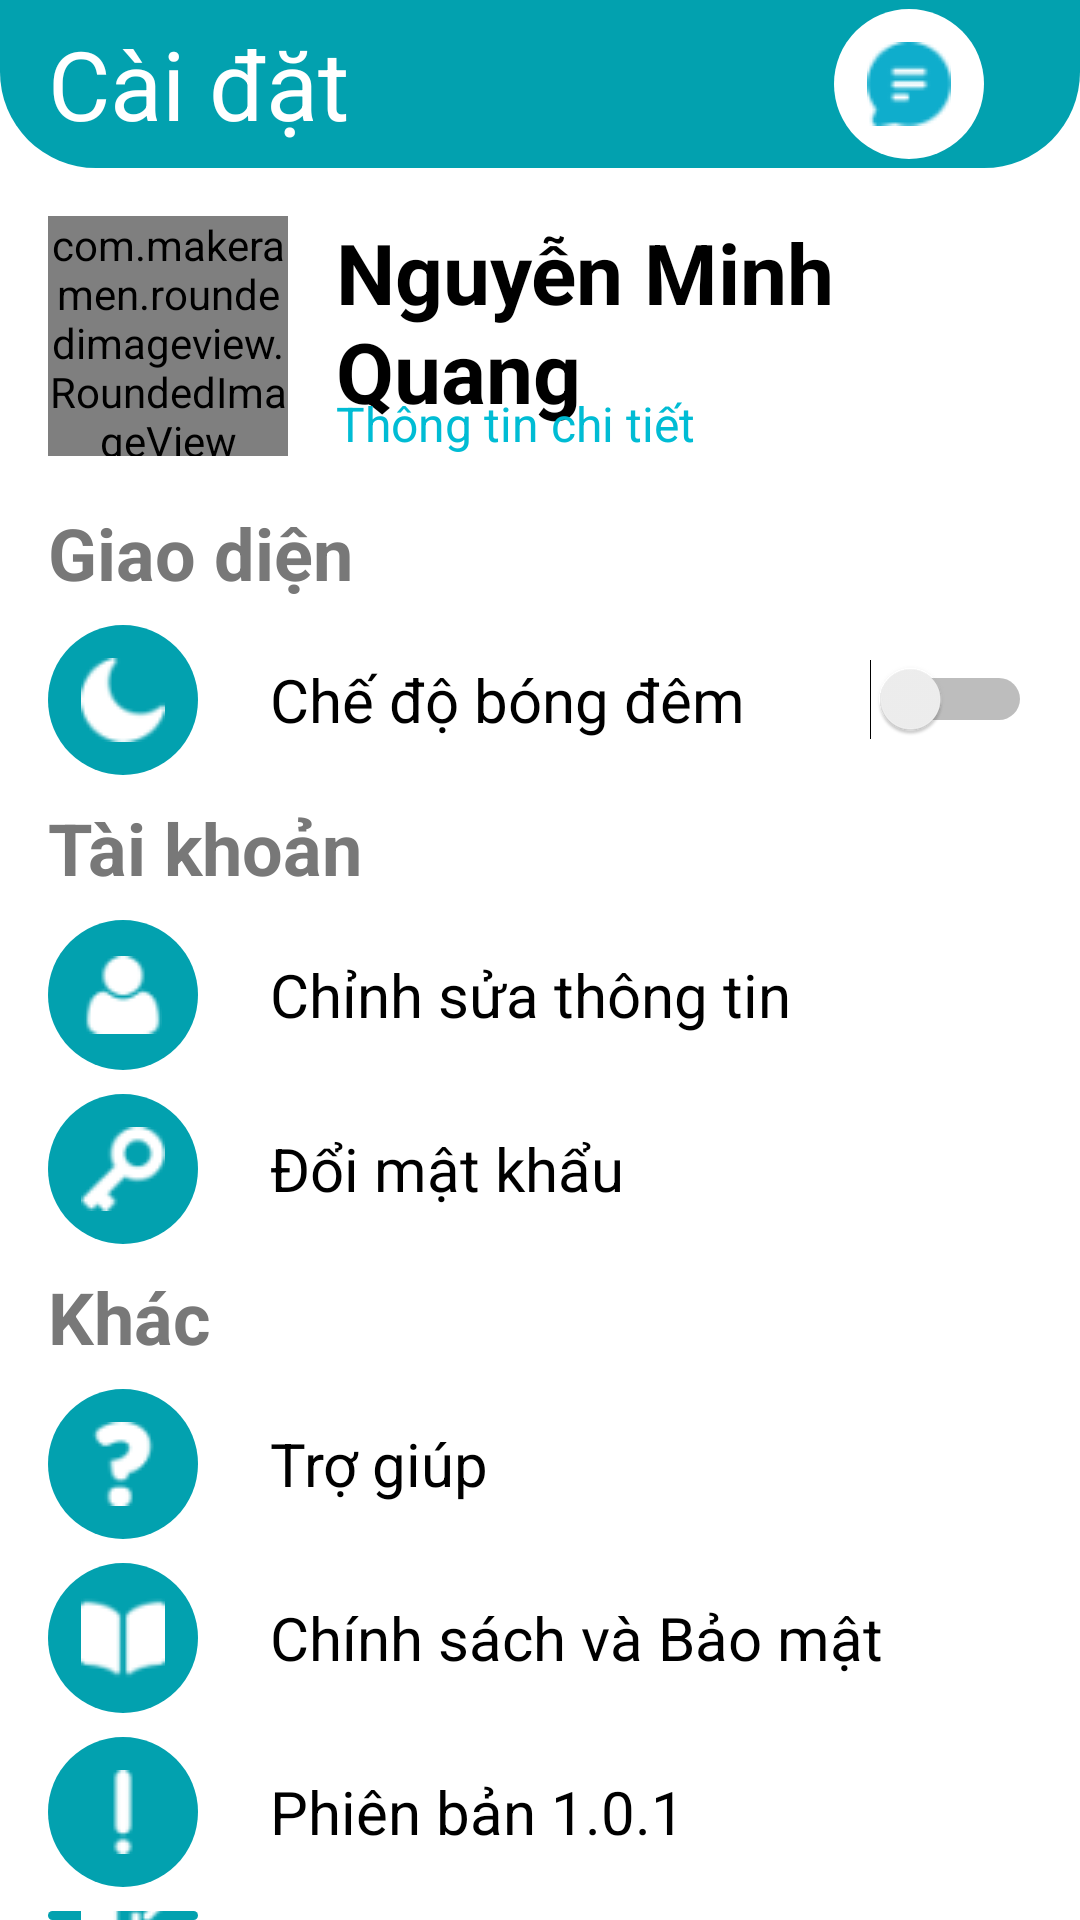

Point at icon controls on the screen. Image size 1080 × 1920, points as (x,y).
book: (123,1638)
che do: (123,700)
comments: (909,84)
tro giup: (123,1464)
